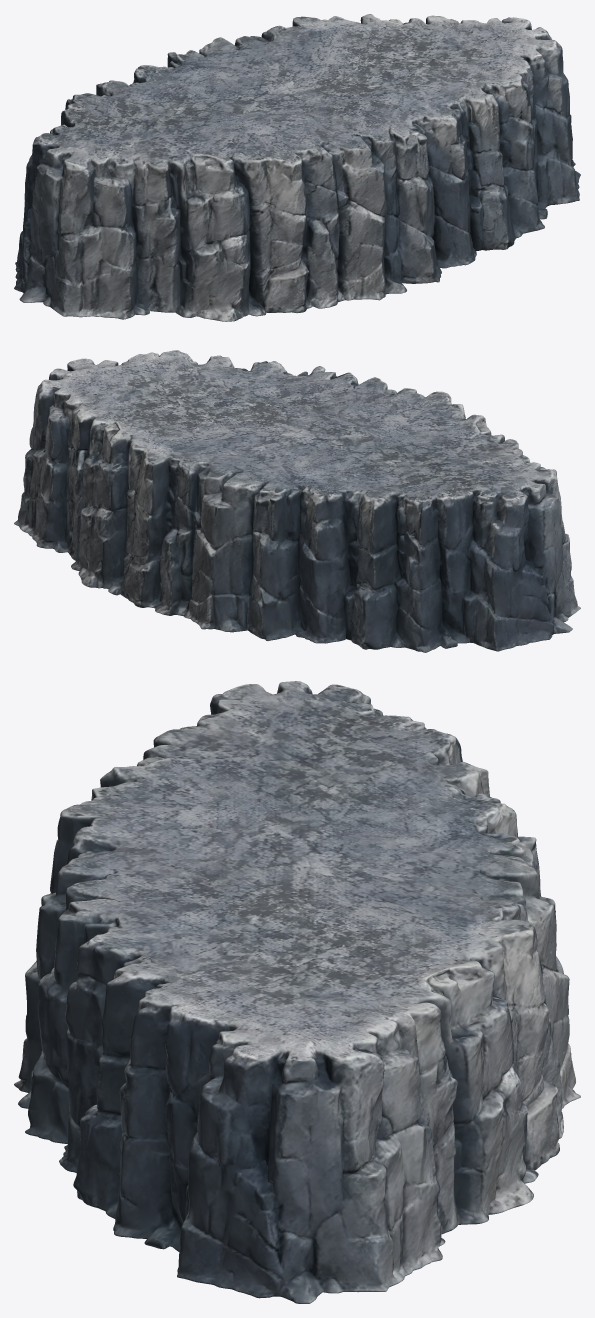
Rendered from acantilado.glb.
3 views of the same model, one above another, from view 1: azimuth 30°, elevation 25°; view 2: azimuth 150°, elevation 25°; view 3: azimuth 270°, elevation 25° (orthographic). The views are drawn at different scales.
Parts seen in each view (by area): view 1: tripo_node_487faf27-f6e8-4405-87ed-6140edafa13d; view 2: tripo_node_487faf27-f6e8-4405-87ed-6140edafa13d; view 3: tripo_node_487faf27-f6e8-4405-87ed-6140edafa13d.
Boxes of the visible parts, x1,y1,x2,y2 form: tripo_node_487faf27-f6e8-4405-87ed-6140edafa13d: [14, 14, 580, 321]; tripo_node_487faf27-f6e8-4405-87ed-6140edafa13d: [14, 350, 580, 652]; tripo_node_487faf27-f6e8-4405-87ed-6140edafa13d: [14, 681, 580, 1303].
Bounding box in the file's own units: 1 × 0.2481 × 0.5639.
Materials: 1 (1 with a texture image).
